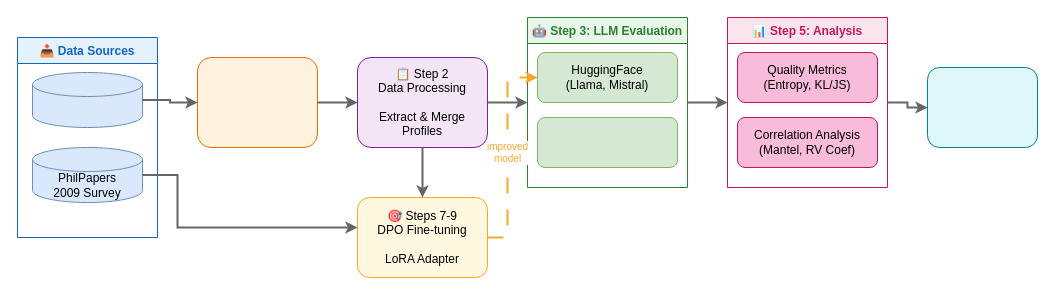
Image size: 1055x295. Some labels were removed from this diagram. Each missing label, with the centre of its shape:
"OpenAI/Anthropic (GPT-4o, Claude)" goes at point (607, 142).
"PhilPeople.org Profiles" goes at point (87, 100).
"📝 Results Metrics & Findings" goes at point (982, 107).
"🔄 Step 1 Data Collection Web Scraping (Selenium)" goes at point (257, 102).
